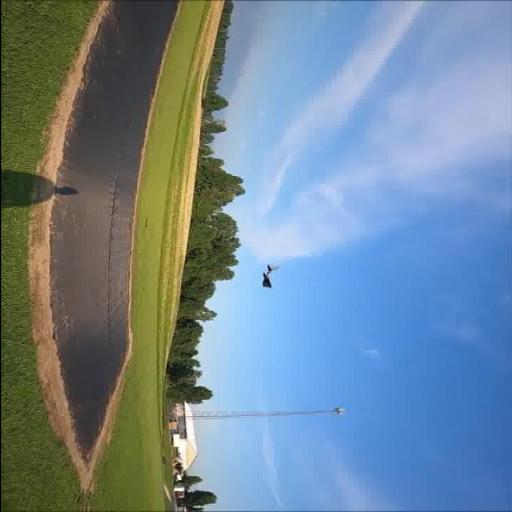uav: (248, 259, 280, 290)
